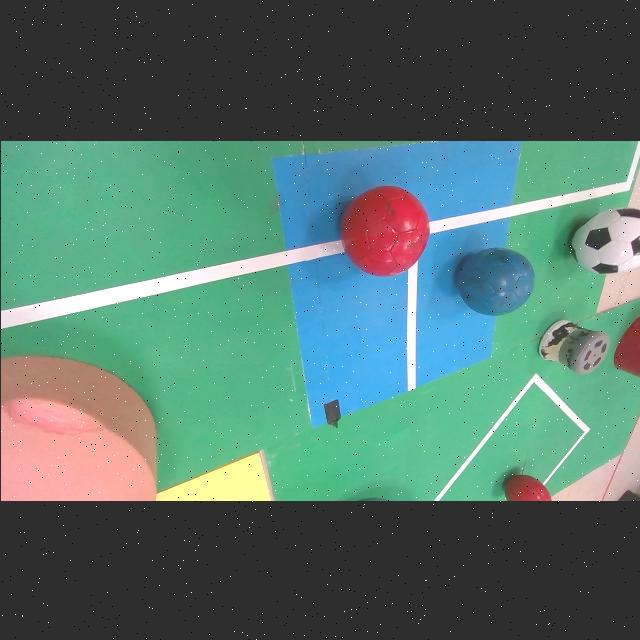B: (454, 247, 534, 315)
R: (340, 185, 428, 275), (503, 474, 550, 500)
